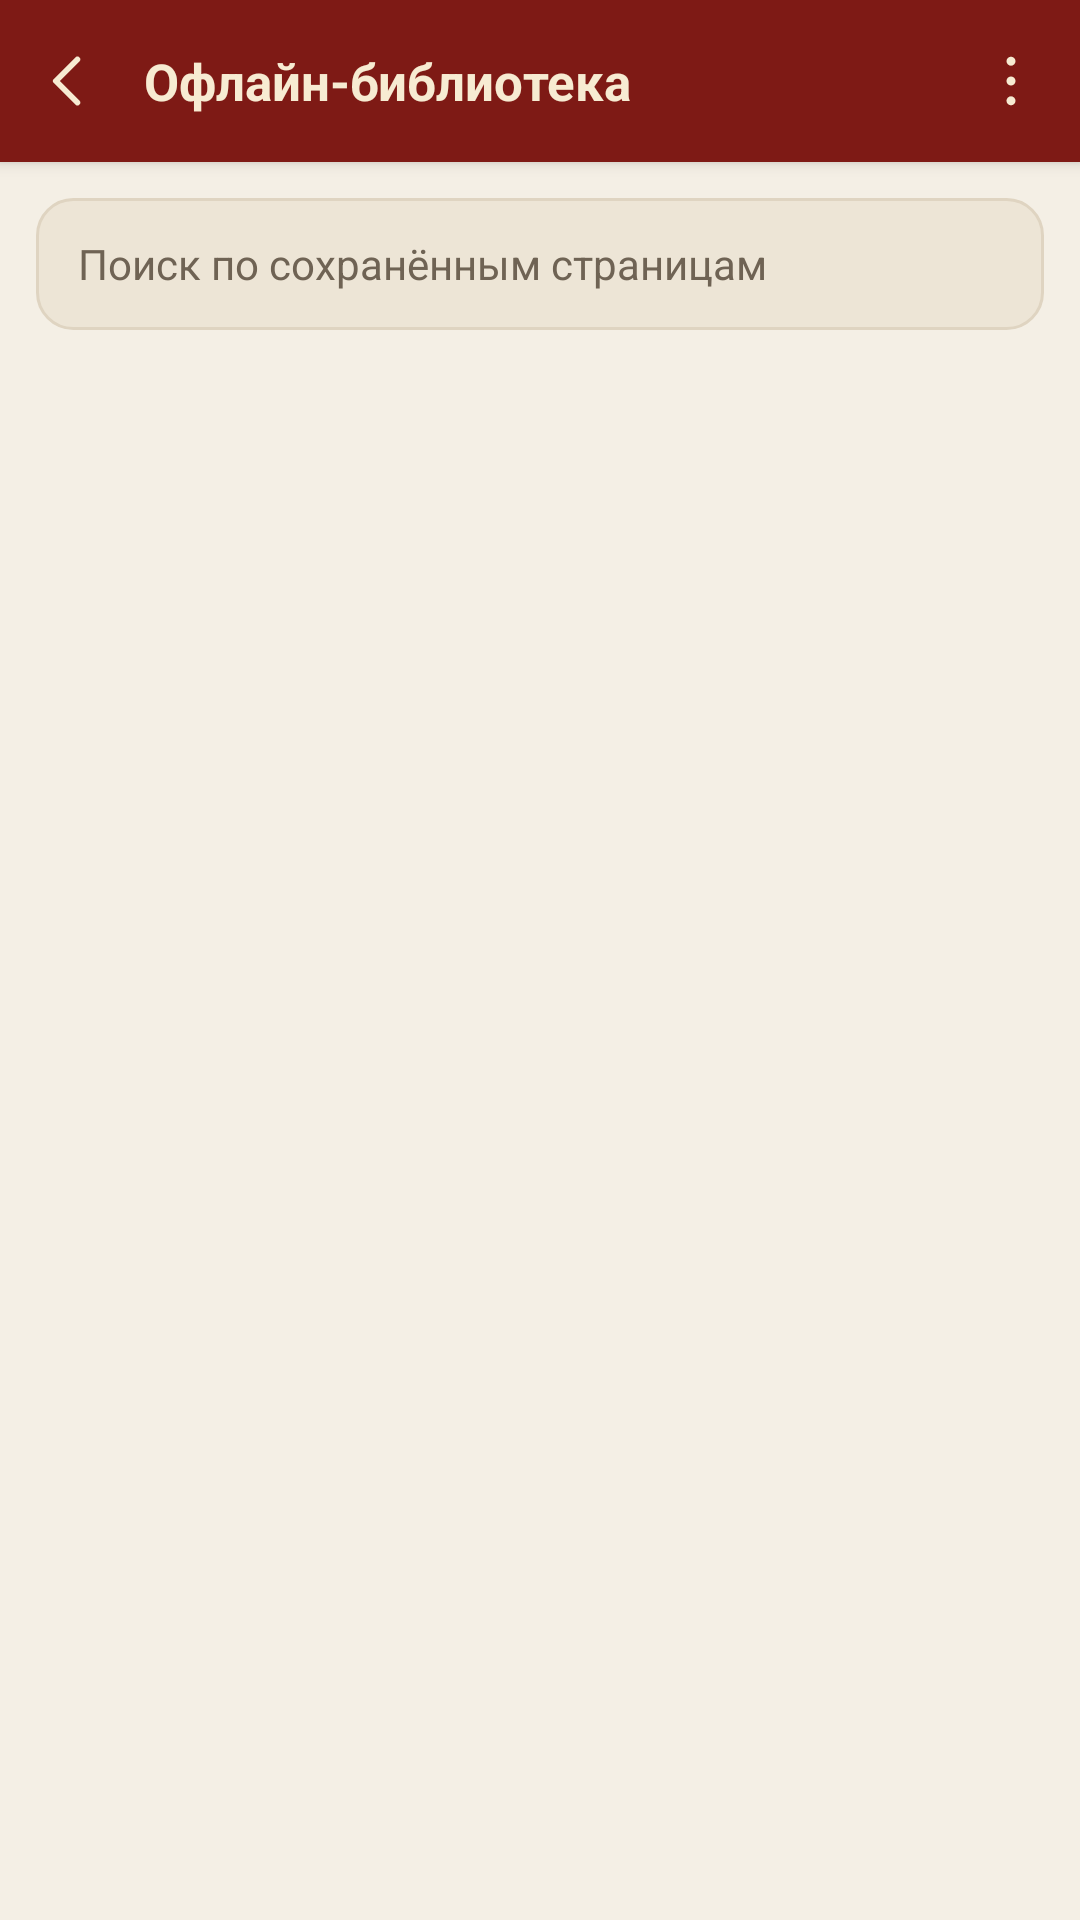

Named icons in this screenshot (1080px x 1920px) and their centers, [x,y]:
Ещё: [1011,81]
Назад: [66,81]
